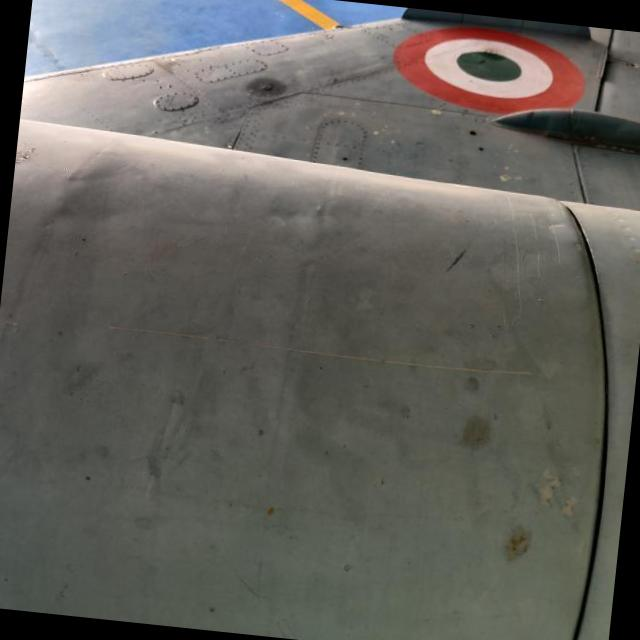Scratch: (286, 346, 530, 381)
